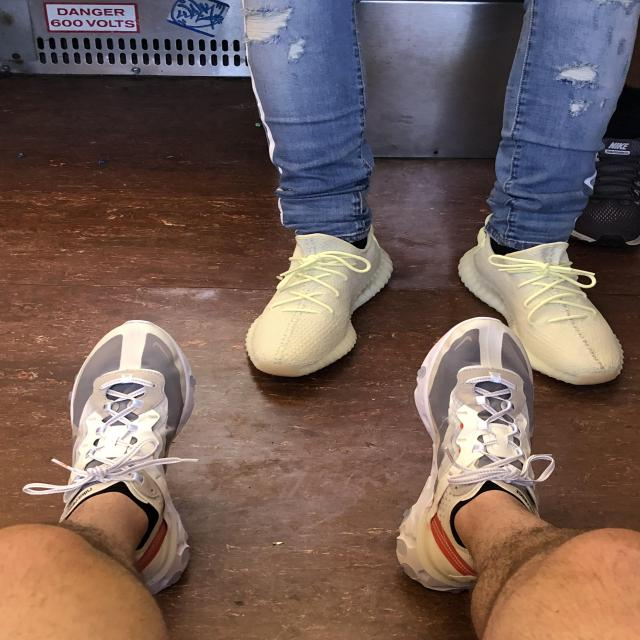shoe: (388, 312, 561, 594), (50, 322, 204, 598), (453, 211, 631, 392), (232, 222, 402, 386)
